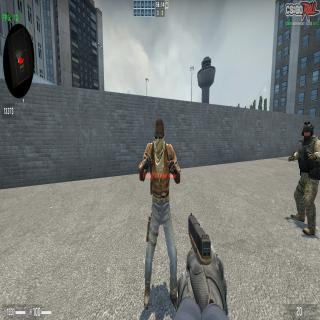CT-Body: (288, 122, 320, 237)
CT-Head: (302, 121, 313, 143)
T-Body: (138, 117, 180, 312)
T-Head: (154, 116, 165, 153)
